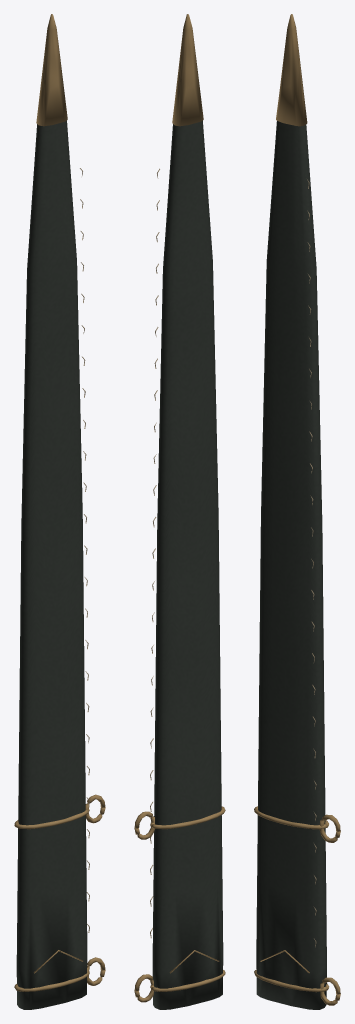
Rendered from scabbard_lod1.glb.
3 renders of one model, left to right at view 1: azimuth 30°, elevation 25°; view 2: azimuth 210°, elevation 25°; view 3: azimuth 330°, elevation 25°, orthographic.
Visible parts, largest first — view 1: ScabbardMesh_LOD1; view 2: ScabbardMesh_LOD1; view 3: ScabbardMesh_LOD1.
Part boxes in pixels (x1,y1,x2,y2): ScabbardMesh_LOD1: (14, 14, 105, 1009); ScabbardMesh_LOD1: (134, 14, 225, 1009); ScabbardMesh_LOD1: (254, 14, 340, 1009).
Size of the model in its own units: 0.0931 by 0.999 by 0.0299.
3 materials, 2 textured.
